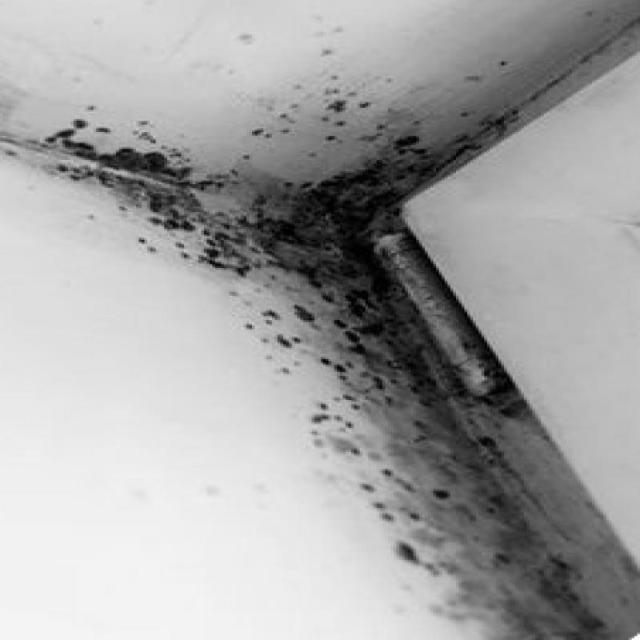stain marks: (25, 31, 609, 640)
